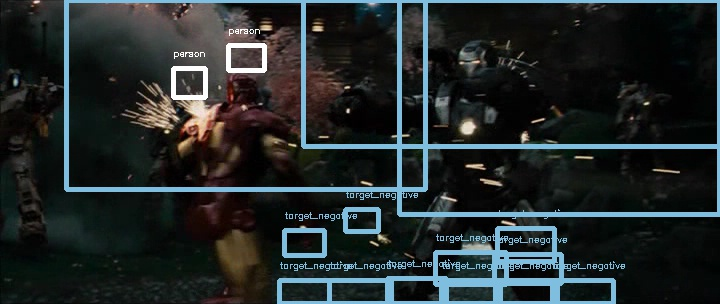person: (219, 70, 264, 111), (218, 70, 263, 111), (220, 70, 265, 111), (219, 69, 264, 110), (219, 71, 264, 112)
target_negative: (26, 152, 536, 288), (129, 210, 469, 290), (491, 131, 618, 291), (126, 67, 503, 101), (556, 204, 696, 246), (225, 210, 582, 221)
